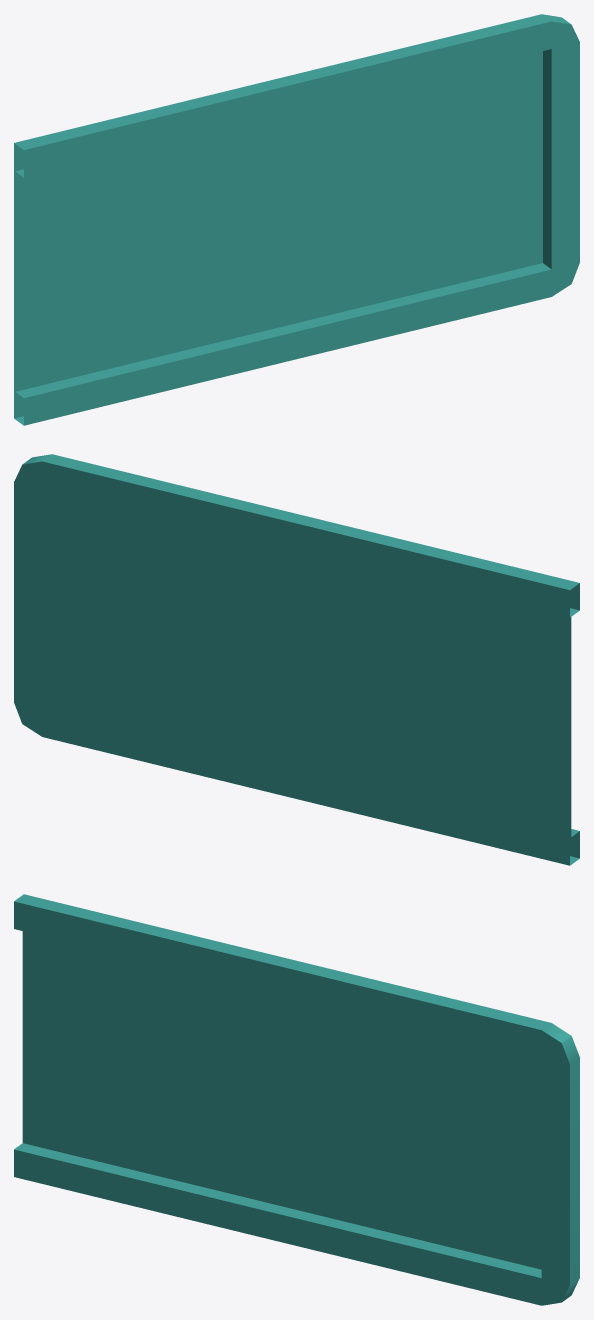
File: SignC_1.fbx
3 renders of one model, top to bottom at view 1: azimuth 30°, elevation 25°; view 2: azimuth 150°, elevation 25°; view 3: azimuth 330°, elevation 25°, orthographic.
Parts seen in each view (by area): view 1: SignC_1; view 2: SignC_1; view 3: SignC_1.
Part boxes in pixels (box(x1,y1,x2,y2)): SignC_1: box(14, 14, 579, 425); SignC_1: box(14, 454, 579, 865); SignC_1: box(14, 894, 579, 1305).
Size of the model in its own units: 123 by 58.44 by 3.81.
